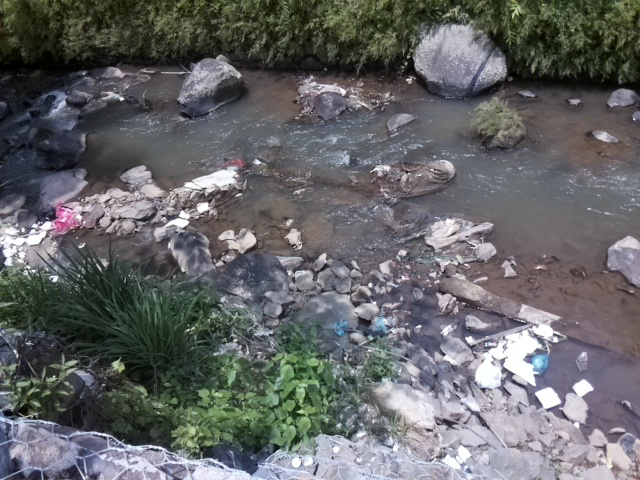Sampah_Plastik: (35, 200, 83, 234), (475, 361, 504, 388), (531, 352, 552, 378)
Sampah_Styrofoam: (489, 326, 536, 389), (527, 320, 562, 345), (531, 386, 561, 408), (568, 379, 596, 399)
